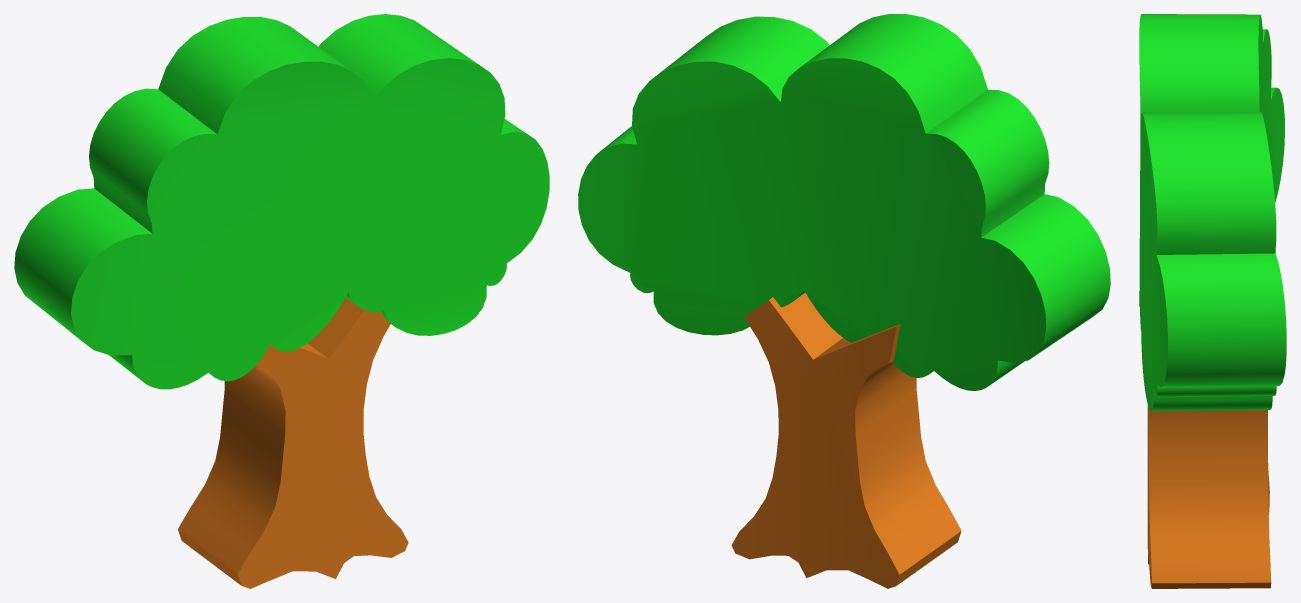
The model's file is Tree_Outer.fbx.
The picture shows the model from 3 angles, left to right: view 1: azimuth 30°, elevation 25°; view 2: azimuth 150°, elevation 25°; view 3: azimuth 270°, elevation 25°; orthographic projection. The views are drawn at different scales.
Parts seen in each view (by area): view 1: Tree_Outer; view 2: Tree_Outer; view 3: Tree_Outer.
Part boxes in pixels (x1,y1,x2,y2): Tree_Outer: [14, 14, 549, 588]; Tree_Outer: [578, 14, 1110, 588]; Tree_Outer: [1139, 14, 1286, 588].
Bounding box in the file's own units: 32.9 × 34.78 × 8.99.
